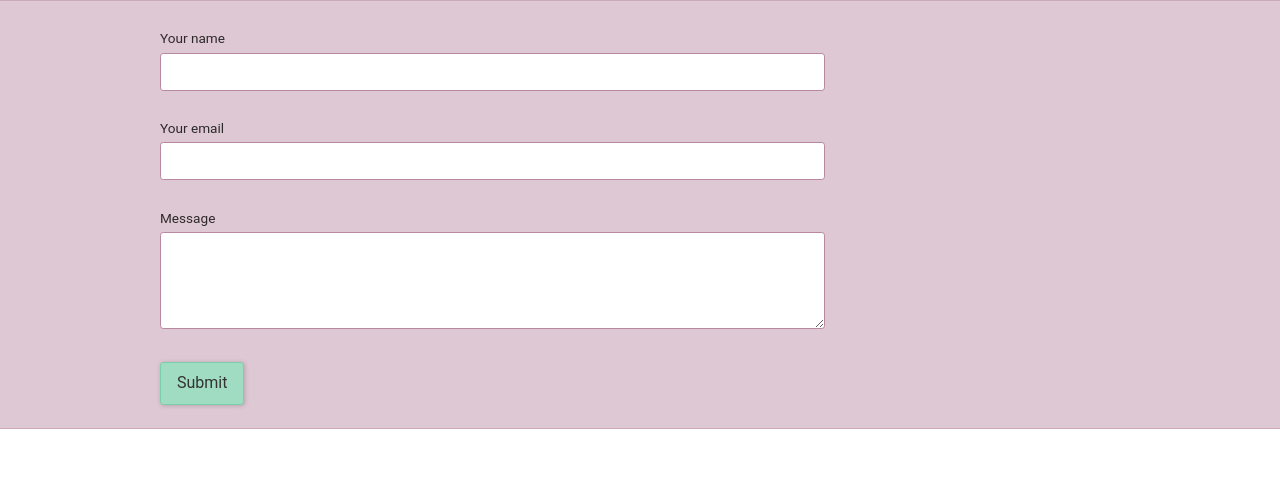
it: <ContactForm> › shows error message if unable to submit
Expected: the button "Submit" is enabled, x1=160 y1=362 x2=244 y2=405
In the field labelled "Your name": (492, 72) x1=160 y1=53 x2=825 y2=91, type "Foo"
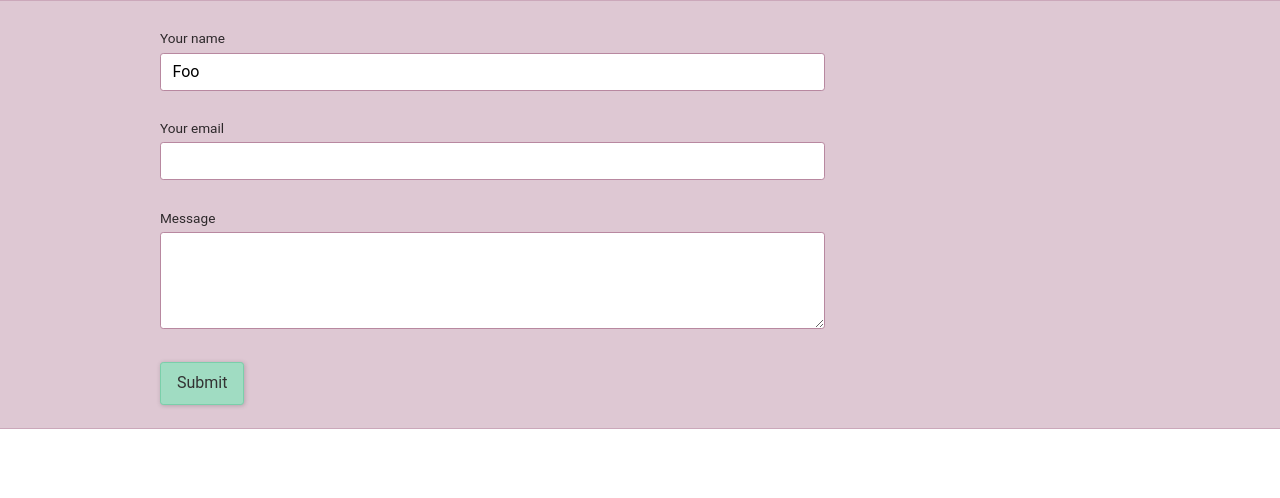
In the field labelled "Your email": (492, 161) x1=160 y1=142 x2=825 y2=180, type "foo@bar.com"
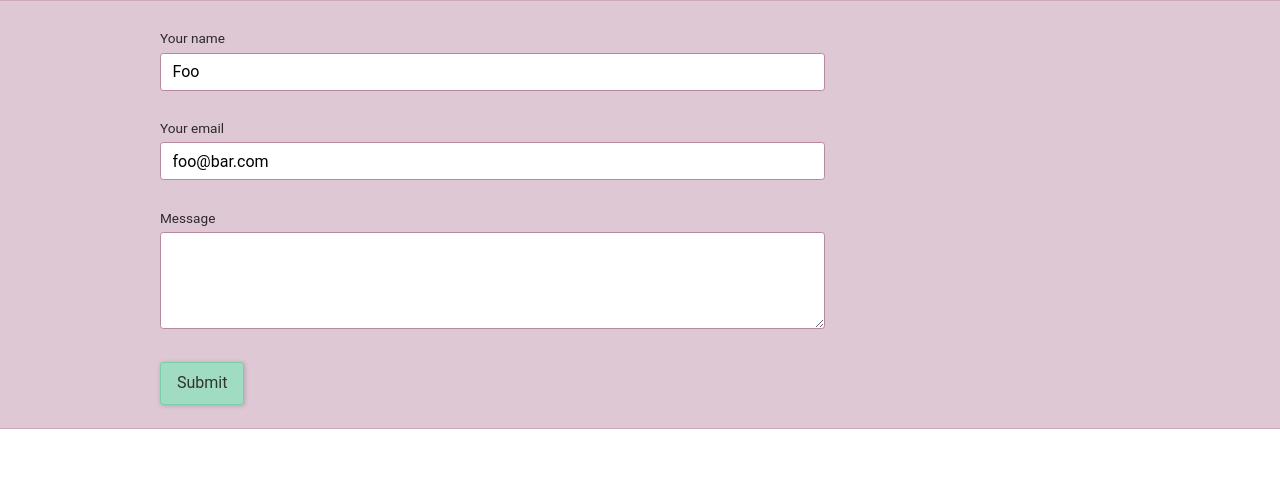
In the text box labelled "Message": (492, 280) x1=160 y1=232 x2=825 y2=329, type "Hello"
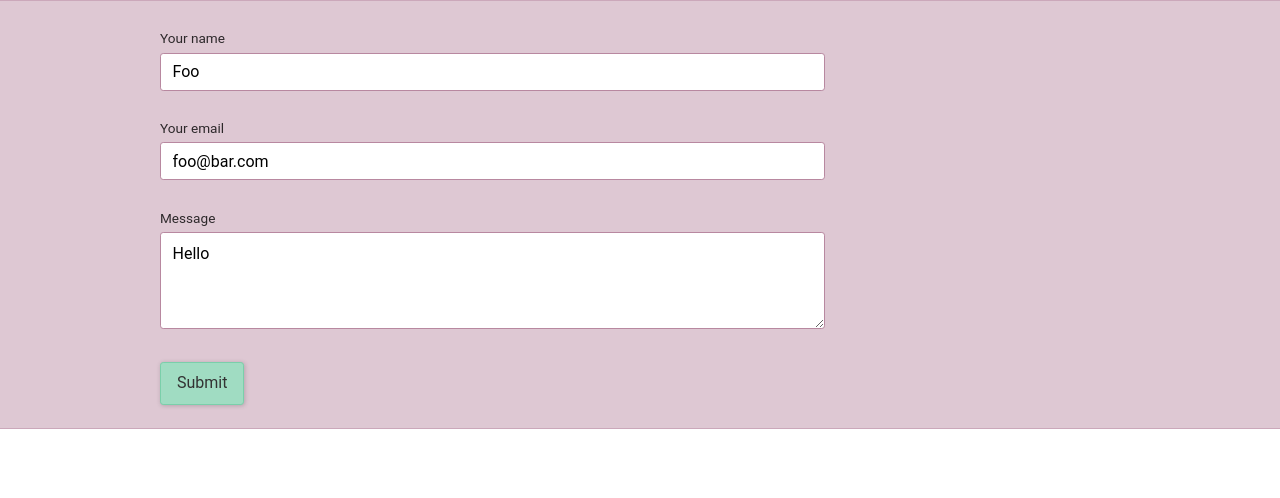
Click the button "Submit": (202, 383) x1=160 y1=362 x2=244 y2=405
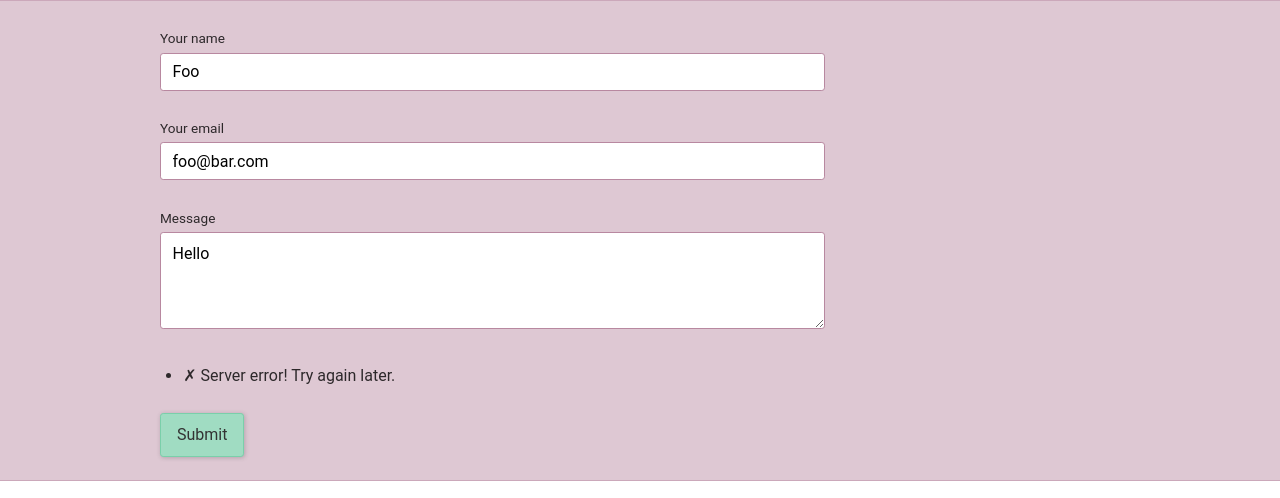
Now the list item "Server error! Try again later." is shown, box x1=201 y1=366 x2=395 y2=385
